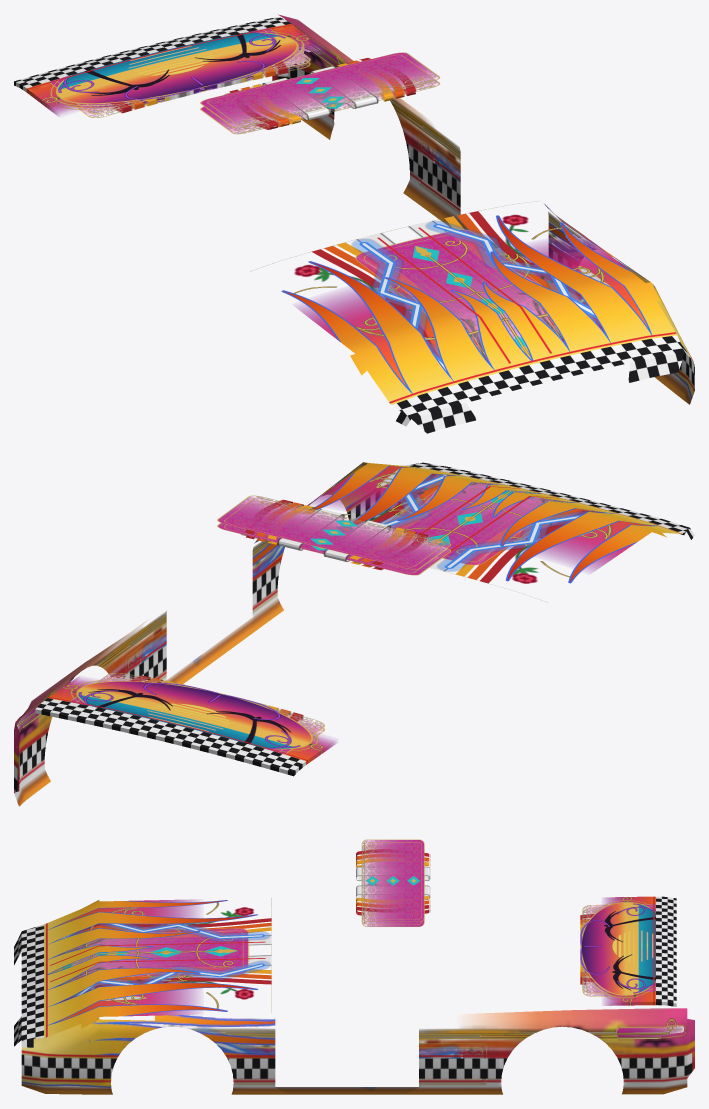
The model's file is KestrelGTVinyls.glb.
The picture shows the model from 3 angles, top to bottom: view 1: azimuth 30°, elevation 25°; view 2: azimuth 150°, elevation 25°; view 3: azimuth 270°, elevation 25°; orthographic projection. The views are drawn at different scales.
Visible parts, largest first — view 1: KestrelGTLivery_flames_hood, KestrelGTLivery_mural_trunk, KestrelGTLivery_checker_hood, KestrelGTLivery_patterns_roof, KestrelGTLivery_patterns_hood, KestrelGTLivery_purple_lace_roof, KestrelGTLivery_lightning_hood, KestrelGTLivery_purple_lace_hood, KestrelGTLivery_sunset_fade_hood, KestrelGTLivery_retro_waves_hood, KestrelGTLivery_checker_trunk, KestrelGTLivery_checker_side (+18 smaller); view 2: KestrelGTLivery_flames_hood, KestrelGTLivery_mural_trunk, KestrelGTLivery_patterns_roof, KestrelGTLivery_checker_trunk, KestrelGTLivery_purple_lace_roof, KestrelGTLivery_patterns_hood, KestrelGTLivery_checker_side, KestrelGTLivery_purple_lace_hood, KestrelGTLivery_lightning_hood, KestrelGTLivery_sunset_fade_hood, KestrelGTLivery_sunset_fade_side, KestrelGTLivery_checker_hood (+17 smaller); view 3: KestrelGTLivery_flames_hood, KestrelGTLivery_checker_side, KestrelGTLivery_flames_side, KestrelGTLivery_mural_trunk, KestrelGTLivery_tropical_side, KestrelGTLivery_patterns_roof, KestrelGTLivery_patterns_hood, KestrelGTLivery_purple_lace_roof, KestrelGTLivery_sunset_fade_side, KestrelGTLivery_checker_hood, KestrelGTLivery_retro_waves_side, KestrelGTLivery_stripes_side (+22 smaller).
Boxes of the visible parts, x1=… form: KestrelGTLivery_flames_hood: x1=281, y1=215, x2=676, y2=404; KestrelGTLivery_mural_trunk: x1=42, y1=30, x2=308, y2=109; KestrelGTLivery_checker_hood: x1=377, y1=227, x2=689, y2=433; KestrelGTLivery_patterns_roof: x1=200, y1=52, x2=439, y2=133; KestrelGTLivery_patterns_hood: x1=355, y1=229, x2=561, y2=360; KestrelGTLivery_purple_lace_roof: x1=203, y1=55, x2=439, y2=133; KestrelGTLivery_lightning_hood: x1=352, y1=221, x2=600, y2=369; KestrelGTLivery_purple_lace_hood: x1=399, y1=241, x2=559, y2=356; KestrelGTLivery_sunset_fade_hood: x1=299, y1=238, x2=647, y2=386; KestrelGTLivery_retro_waves_hood: x1=312, y1=211, x2=604, y2=358; KestrelGTLivery_checker_trunk: x1=14, y1=17, x2=292, y2=93; KestrelGTLivery_checker_side: x1=277, y1=64, x2=694, y2=391; KestrelGTLivery_flames_hood: x1=312, y1=462, x2=682, y2=583; KestrelGTLivery_mural_trunk: x1=62, y1=679, x2=323, y2=754; KestrelGTLivery_patterns_roof: x1=217, y1=495, x2=450, y2=575; KestrelGTLivery_checker_trunk: x1=35, y1=697, x2=307, y2=776; KestrelGTLivery_purple_lace_roof: x1=221, y1=496, x2=450, y2=573; KestrelGTLivery_patterns_hood: x1=390, y1=482, x2=561, y2=565; KestrelGTLivery_checker_side: x1=14, y1=491, x2=382, y2=792; KestrelGTLivery_purple_lace_hood: x1=407, y1=483, x2=565, y2=548; KestrelGTLivery_lightning_hood: x1=378, y1=474, x2=609, y2=571; KestrelGTLivery_sunset_fade_hood: x1=314, y1=466, x2=651, y2=570; KestrelGTLivery_sunset_fade_side: x1=14, y1=599, x2=283, y2=806; KestrelGTLivery_checker_hood: x1=405, y1=462, x2=694, y2=560; KestrelGTLivery_flames_hood: x1=44, y1=900, x2=257, y2=1037; KestrelGTLivery_checker_side: x1=21, y1=1048, x2=693, y2=1082; KestrelGTLivery_flames_side: x1=21, y1=1015, x2=669, y2=1087; KestrelGTLivery_mural_trunk: x1=580, y1=897, x2=655, y2=1005; KestrelGTLivery_tropical_side: x1=469, y1=1008, x2=694, y2=1059; KestrelGTLivery_patterns_roof: x1=362, y1=839, x2=424, y2=926; KestrelGTLivery_patterns_hood: x1=53, y1=928, x2=248, y2=983; KestrelGTLivery_purple_lace_roof: x1=362, y1=840, x2=419, y2=926; KestrelGTLivery_sunset_fade_side: x1=21, y1=1030, x2=694, y2=1094; KestrelGTLivery_checker_hood: x1=14, y1=923, x2=265, y2=1047; KestrelGTLivery_retro_waves_side: x1=232, y1=1027, x2=694, y2=1069; KestrelGTLivery_stripes_side: x1=21, y1=1073, x2=690, y2=1090.
Bounding box in the file's own units: 7.37 × 4.34 × 17.39.
50 materials, 50 textured.
